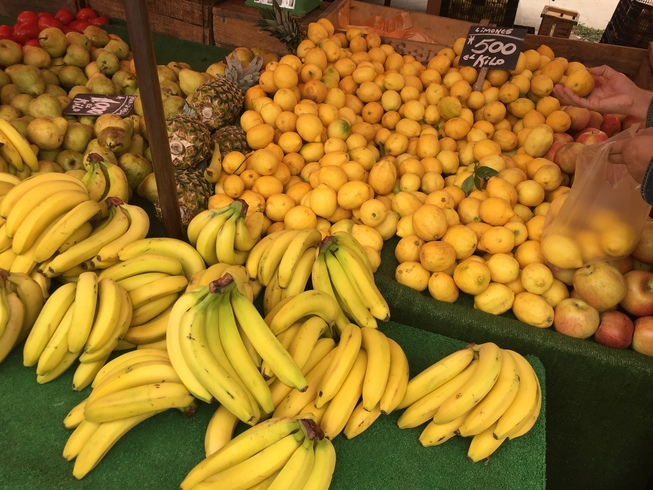precio: (456, 20, 529, 80), (53, 88, 143, 128)
